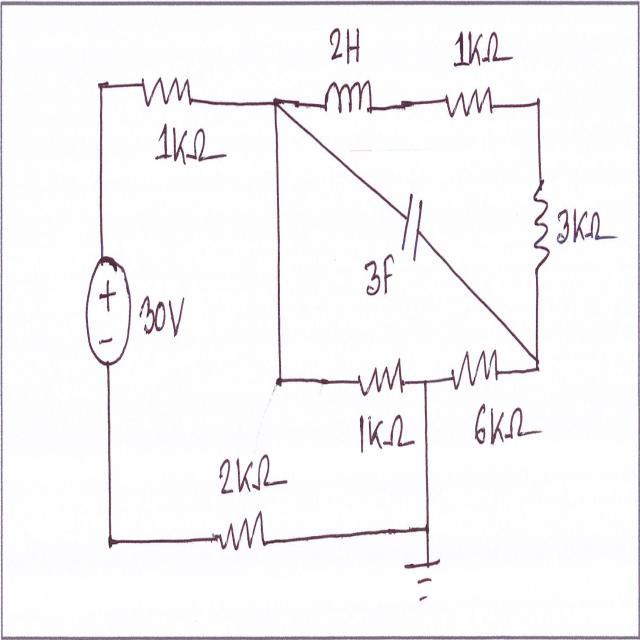capacitor: (400, 186, 427, 266)
ground: (402, 559, 447, 610)
inductor: (317, 76, 376, 128)
resistor: (212, 506, 270, 570), (447, 336, 502, 394), (357, 354, 407, 412), (437, 84, 501, 128), (527, 177, 552, 285), (136, 68, 194, 112)
voltage_source: (82, 249, 134, 384)
